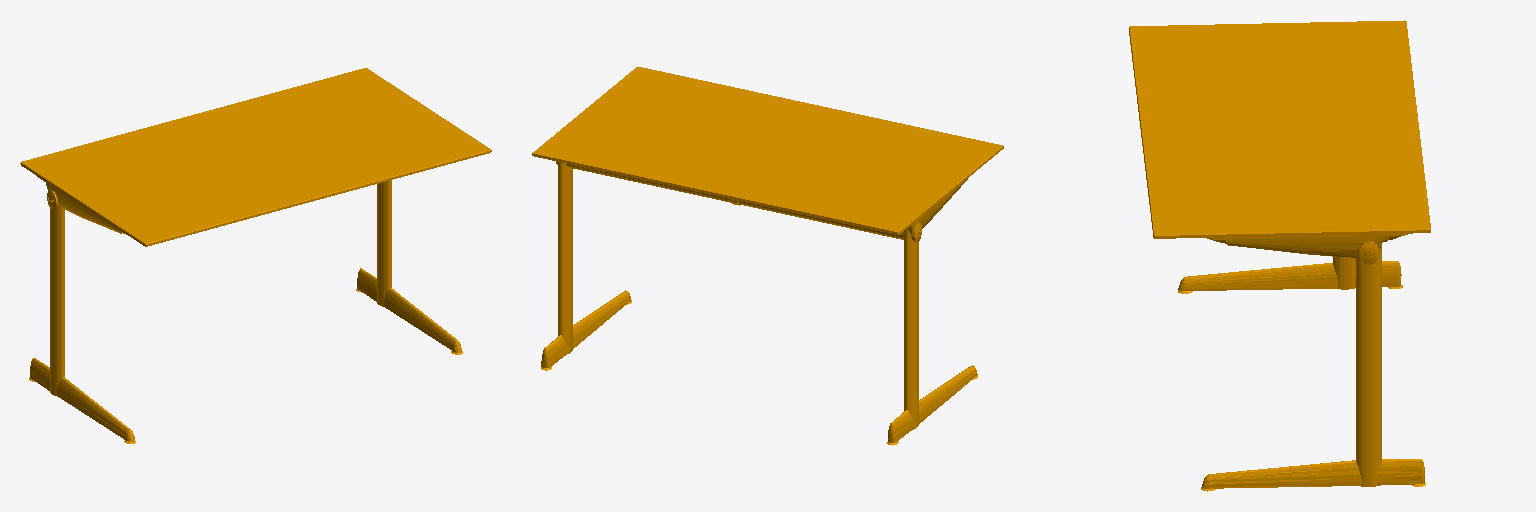
URDF robot description (04379243_ea9e7db452d2df55d42ec7e303174a87_object):
<robot name="04379243_ea9e7db452d2df55d42ec7e303174a87_object">
	<link name="_name">
		<visual>
			<origin xyz="-2.007065819916065 -0.7634243609709761 0.5554558228948403" rpy="0.0 0.0 0.0" />
			<geometry>
				<mesh filename="04379243_ea9e7db452d2df55d42ec7e303174a87_object.obj" />
			</geometry>
		</visual>
		<collision>
			<origin rpy="0.0 0.0 0.0" xyz="-2.007065819916065 -0.7634243609709761 0.5554558228948403" />
			<geometry>
				<mesh filename="04379243_ea9e7db452d2df55d42ec7e303174a87_object_vhacd.obj" />
			</geometry>
		</collision>
		<inertial>
			<origin rpy="0 0 0" xyz="0 0 0" />
			<mass value="1.0" />
			<inertia ixx="0.001" ixy="0.0" ixz="0.0" iyy="0.001" iyz="0.0" izz="0.001" />
		</inertial>
	</link>
</robot>

--- What the picture shows (computed from the rendered views, not written in the file) ---
Views: 3 orthographic renders of the robot side by side, from view 1: azimuth 30°, elevation 25°; view 2: azimuth 150°, elevation 25°; view 3: azimuth 270°, elevation 25°.
Model 04379243_ea9e7db452d2df55d42ec7e303174a87_object with 1 links and 0 joints (none), rooted at _name, posed every joint at zero.
Links seen in each view (by area): view 1: _name; view 2: _name; view 3: _name.
Link boxes in pixels (left/top/right/bottom): _name: left=20, top=68, right=491, bottom=443; _name: left=532, top=67, right=1003, bottom=445; _name: left=1129, top=20, right=1430, bottom=491.
Bounding box of the posed robot: 1.42 × 0.8429 × 0.8005 m (x, y, z).
1 mesh visuals loaded from 1 distinct referenced files (1 OBJ).
